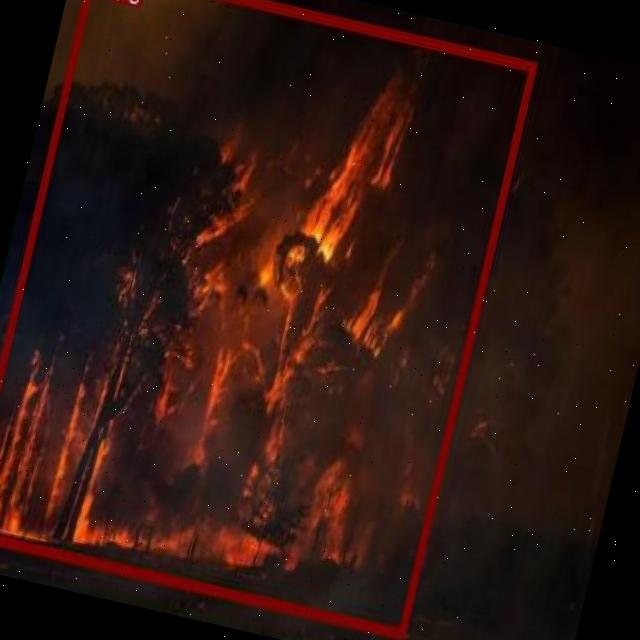fire: (0, 0, 535, 637)
